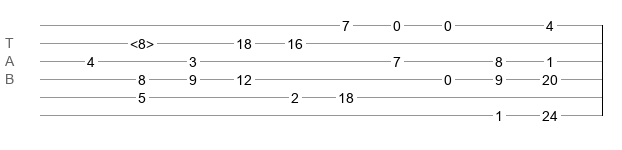0: (393, 18, 401, 28), (444, 18, 452, 28), (444, 72, 452, 82)
1: (495, 108, 503, 118), (546, 54, 554, 64)
12: (236, 72, 252, 82)
16: (287, 36, 303, 46)
18: (236, 36, 252, 46), (338, 90, 354, 100)
2: (291, 90, 299, 100)
20: (542, 72, 558, 82)
24: (542, 108, 558, 118)
3: (189, 54, 197, 64)
4: (87, 54, 95, 64), (546, 18, 554, 28)
5: (138, 90, 146, 100)
7: (342, 18, 350, 28), (393, 54, 401, 64)
8: (138, 72, 146, 82), (495, 54, 503, 64)
9: (189, 72, 197, 82), (495, 72, 503, 82)
harmonic: (130, 36, 154, 46)
